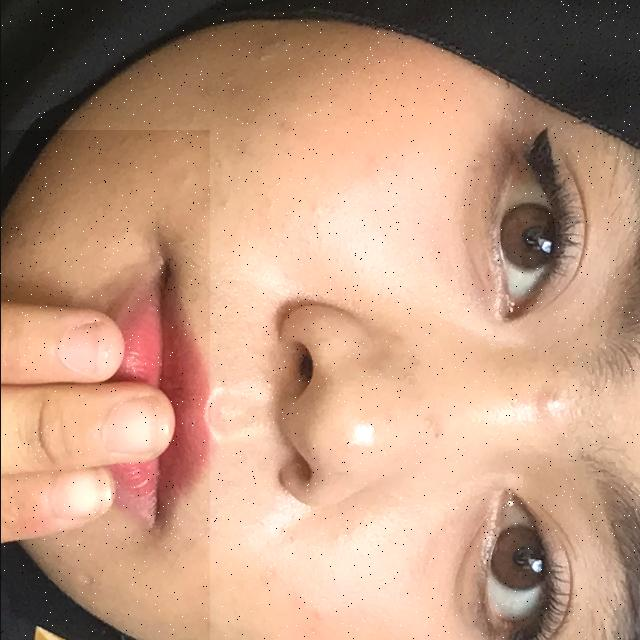ganteng: (0, 130, 209, 640)
